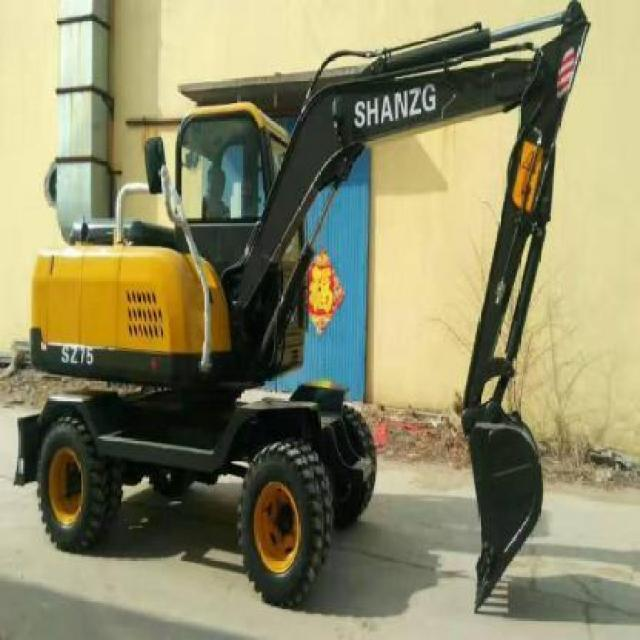Excavator: (23, 0, 592, 614)
